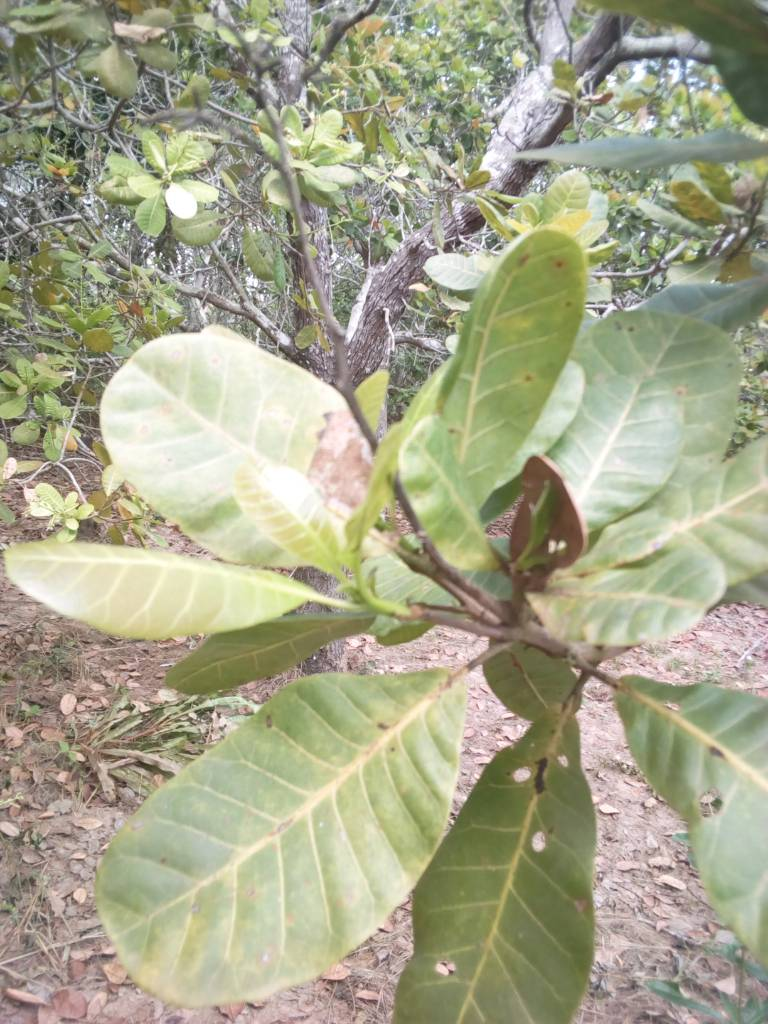Pestalotiose: (455, 232, 597, 471)
